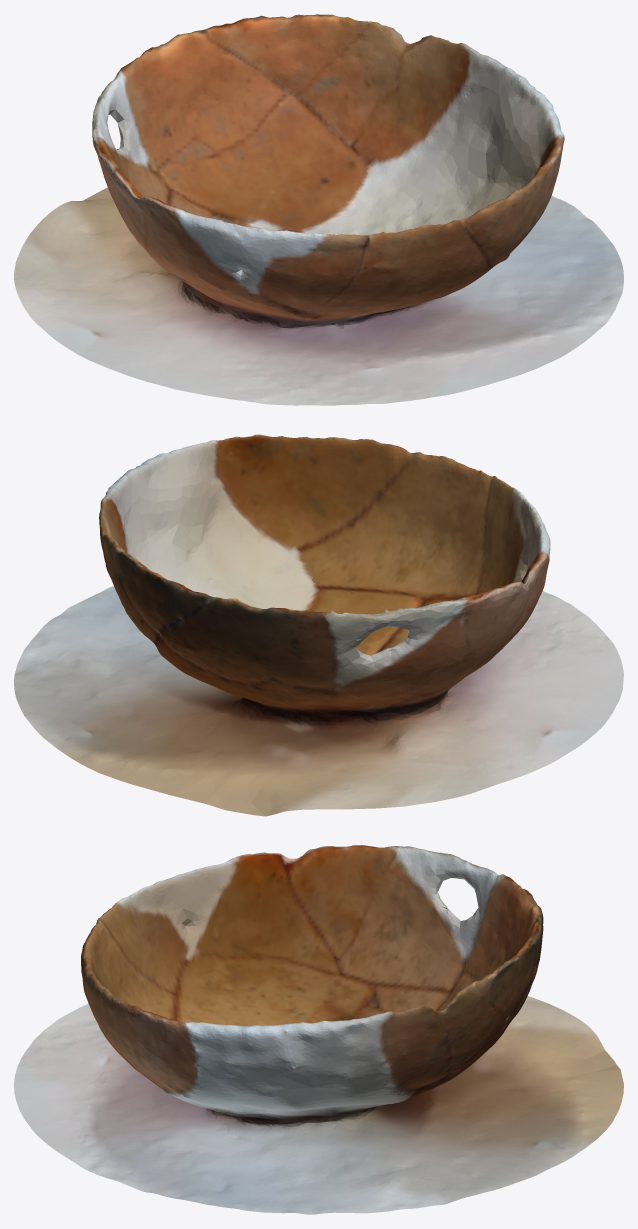
3 renders of one model, top to bottom at view 1: azimuth 30°, elevation 25°; view 2: azimuth 150°, elevation 25°; view 3: azimuth 270°, elevation 25°, orthographic.
Parts seen in each view (by area): view 1: mesh; view 2: mesh; view 3: mesh.
Boxes of the visible parts, left/top/right/bottom form: mesh: left=14, top=14, right=623, bottom=405; mesh: left=14, top=434, right=623, bottom=816; mesh: left=14, top=845, right=623, bottom=1214.
Bounding box in the file's own units: 0.2144 × 0.0691 × 0.2179.
1 material, 1 textured.
